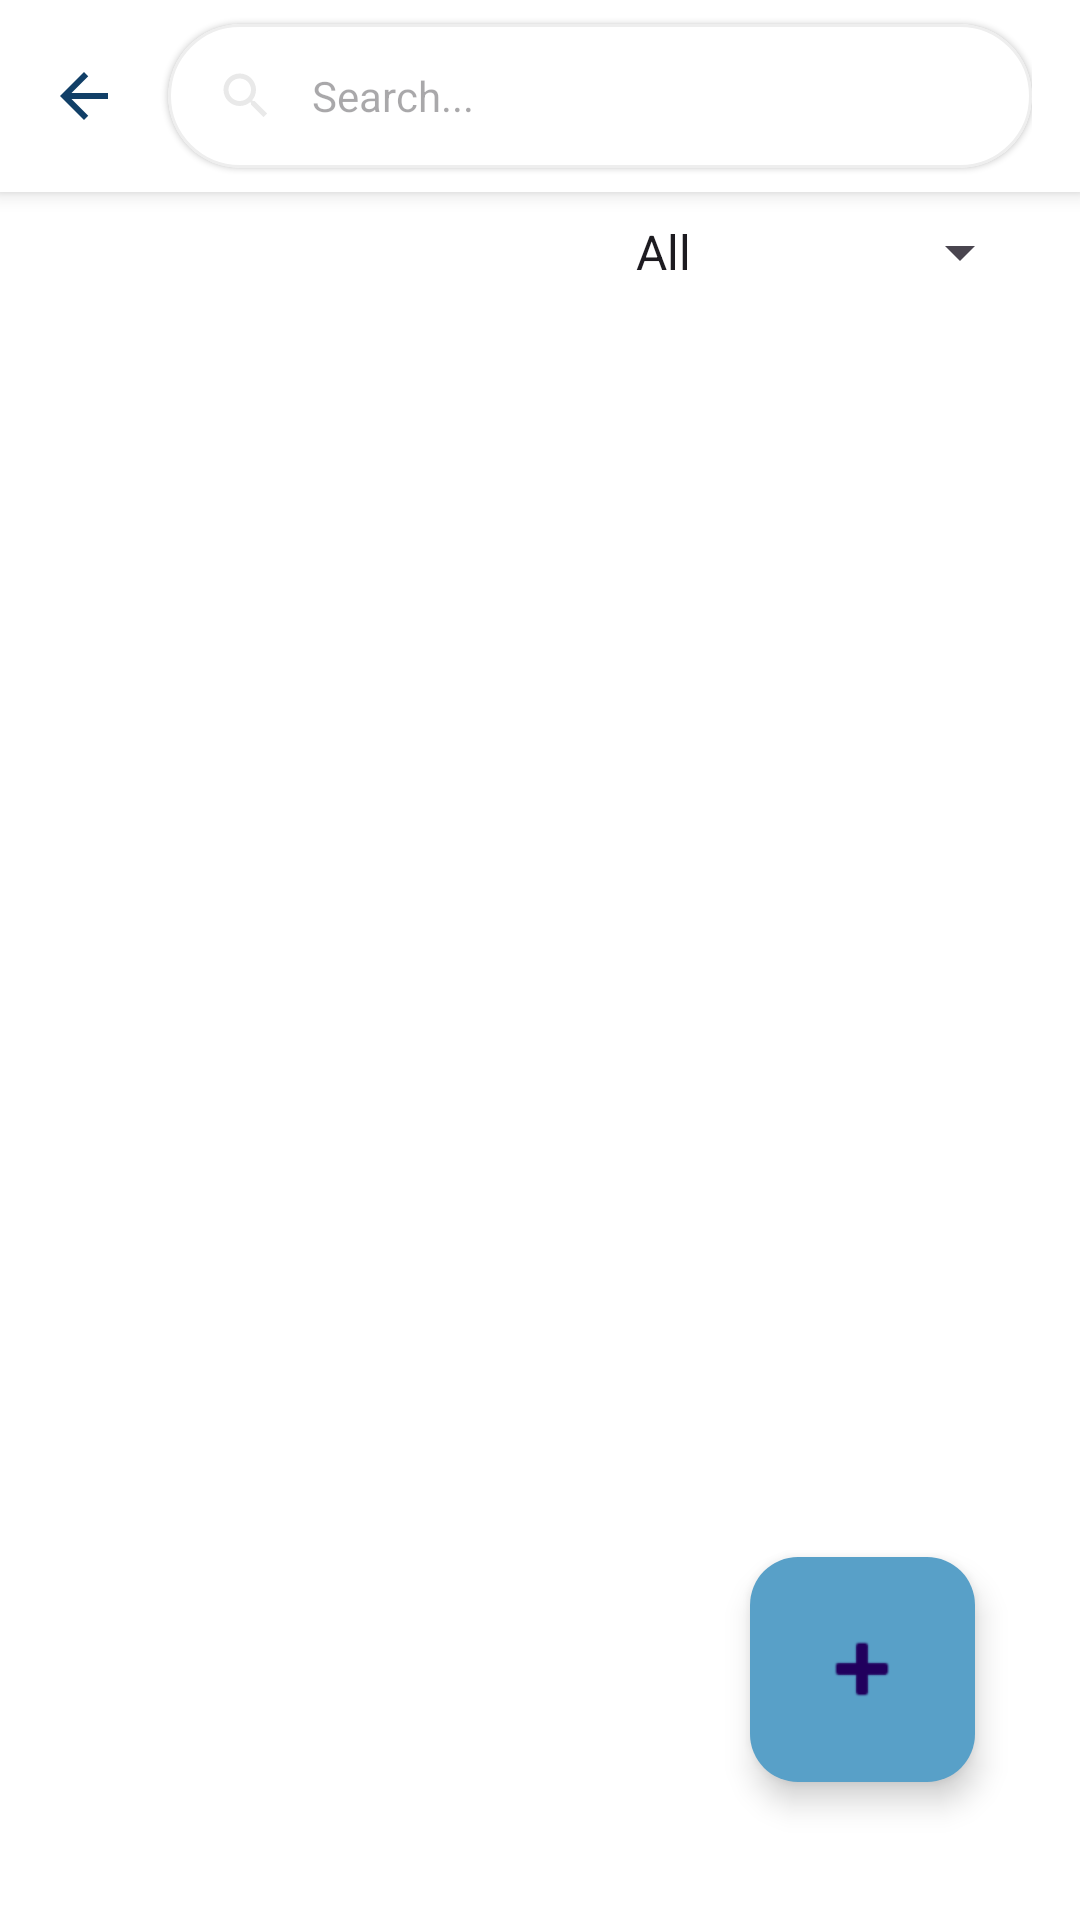

Icons on this 1080x1920 Android screen, each with its box as (x1, y1, x2, y2):
arrow back: (60, 72, 108, 120)
